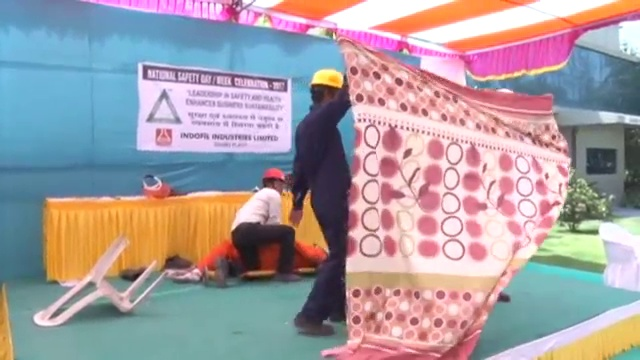helmet: (307, 67, 343, 90), (261, 166, 286, 184)
helmet_on: (307, 67, 344, 107), (259, 165, 286, 195)
person: (291, 66, 356, 336), (216, 167, 300, 287), (163, 239, 329, 287)
